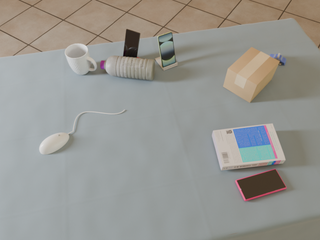book: (212, 124, 285, 170)
bottle: (100, 56, 155, 80)
box: (223, 47, 280, 103)
cup: (65, 44, 97, 75)
mouse: (40, 133, 69, 154)
phone: (235, 169, 286, 201), (158, 32, 176, 67), (123, 29, 140, 57)
toy_car: (269, 53, 286, 65)
